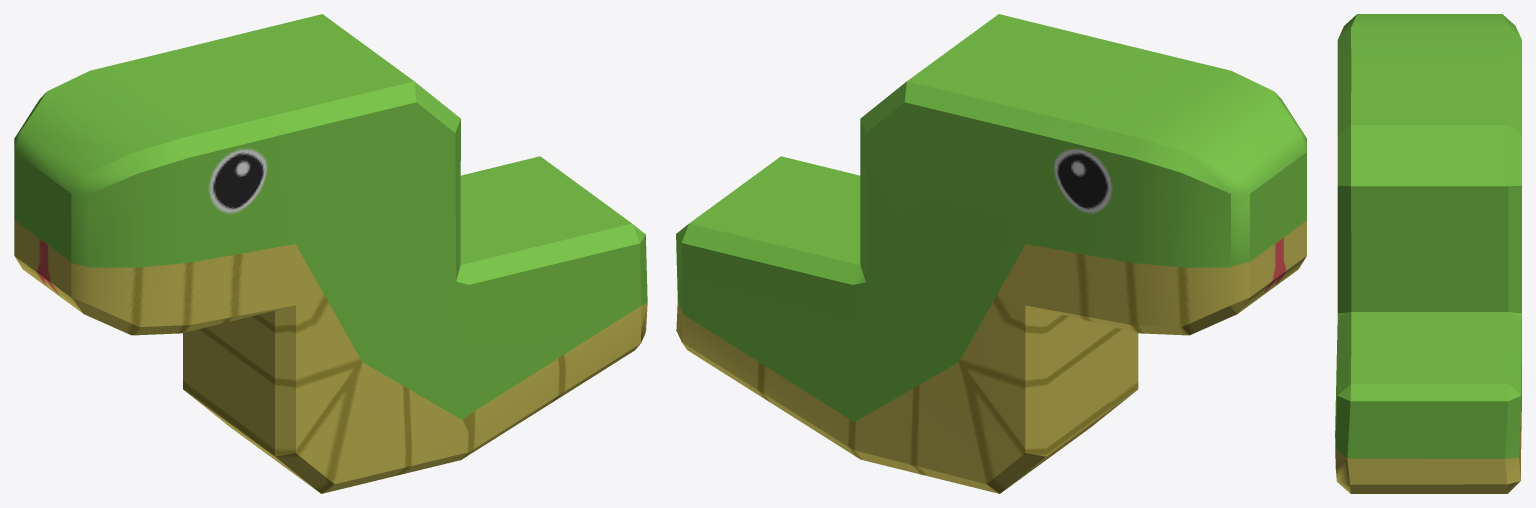
File: SBoxSneke.fbx
3 views of the same model, side by side, from view 1: azimuth 30°, elevation 25°; view 2: azimuth 150°, elevation 25°; view 3: azimuth 270°, elevation 25° (orthographic). The views are drawn at different scales.
Visible parts, largest first — view 1: S; view 2: S; view 3: S.
Boxes of the visible parts, x1,y1,x2,y2 form: S: (14, 14, 647, 493); S: (676, 14, 1306, 493); S: (1335, 14, 1521, 493).
Size of the model in its own units: 2.99 by 2 by 1.01.
1 material, 1 textured.
